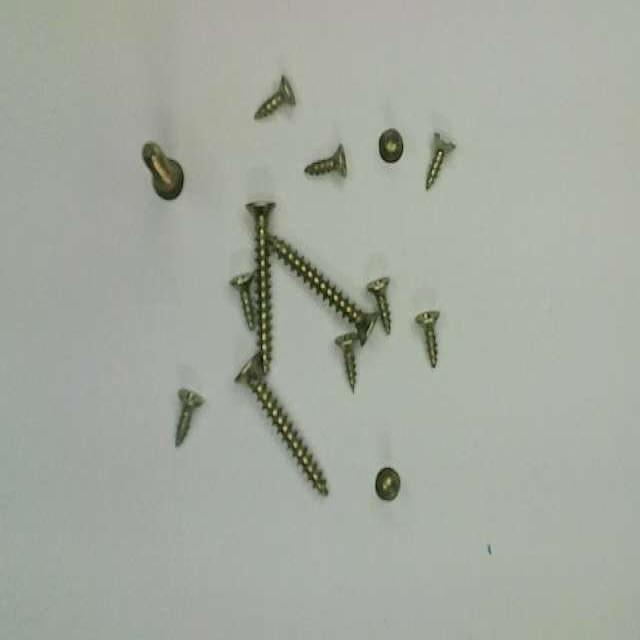Parafuso: (236, 356, 327, 495), (268, 233, 376, 343), (246, 203, 274, 373), (142, 141, 183, 199), (255, 75, 295, 119), (425, 133, 455, 189), (176, 389, 204, 445), (231, 272, 254, 329), (416, 311, 439, 367), (305, 144, 346, 175), (367, 279, 390, 333), (334, 335, 356, 391), (375, 468, 400, 499), (379, 129, 402, 161)
